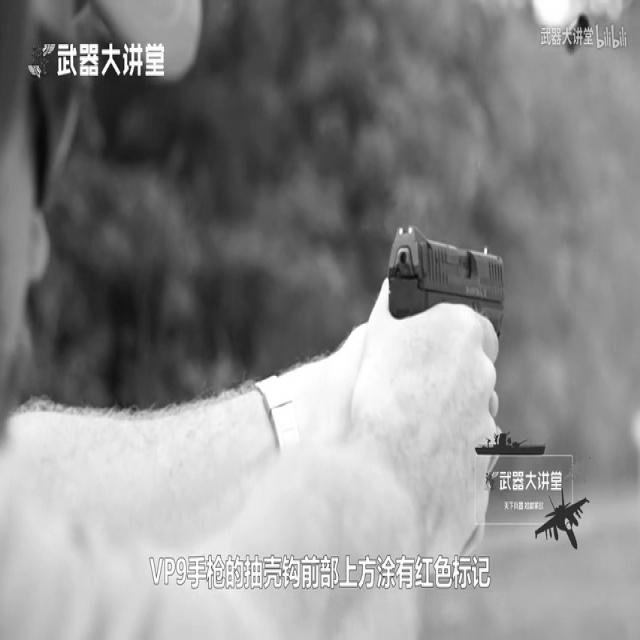Hand-Gun: (372, 121, 560, 611)
